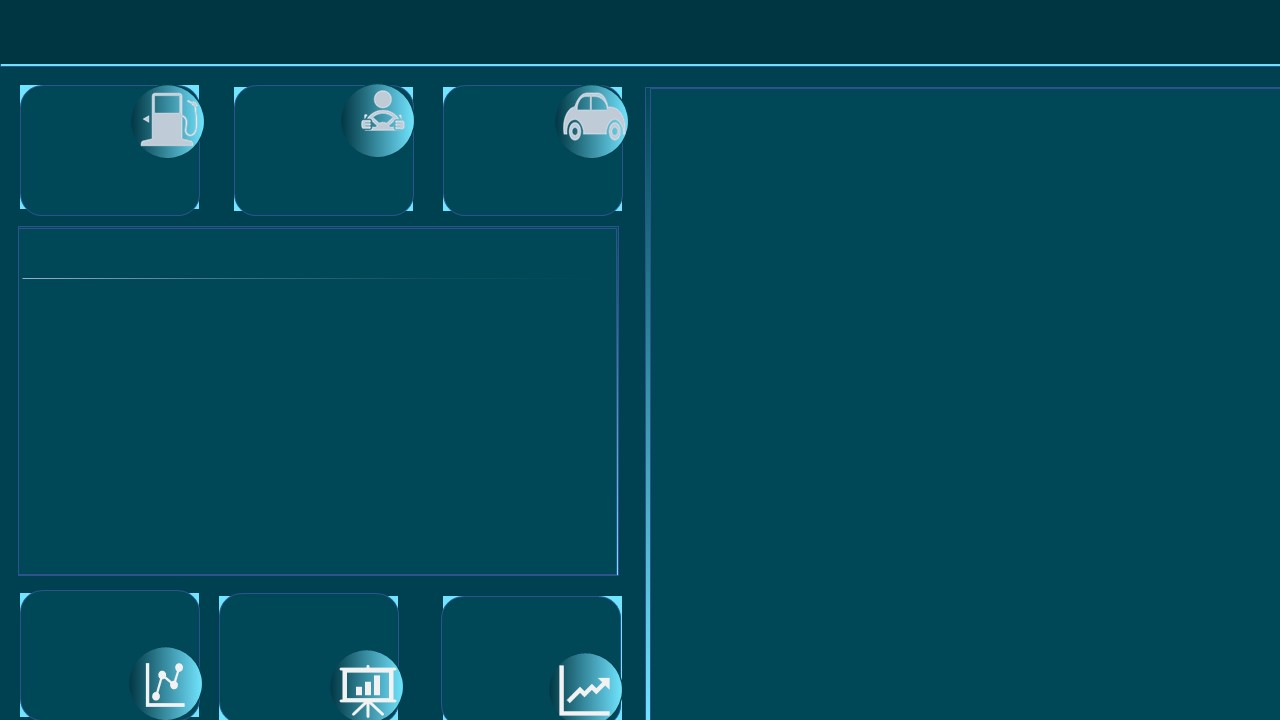

What the dashboard file says about the page in this screenshot:
{"tool":"powerbi","page":{"name":"Home ","canvas":[1280,720],"ordinal":0},"visuals":[{"type":"textbox","box":[80.8,80.8,1133.7,279.8],"z":0}]}

Visuals, with their boxes on the page's 1280x720 design canvas (x1, y1, x2, y2). These are canvas units, not pixel positions in the 1280x720 screenshot, which may show the page scaled, cropped or inside an application window:
textbox: region(81, 81, 1214, 361)
